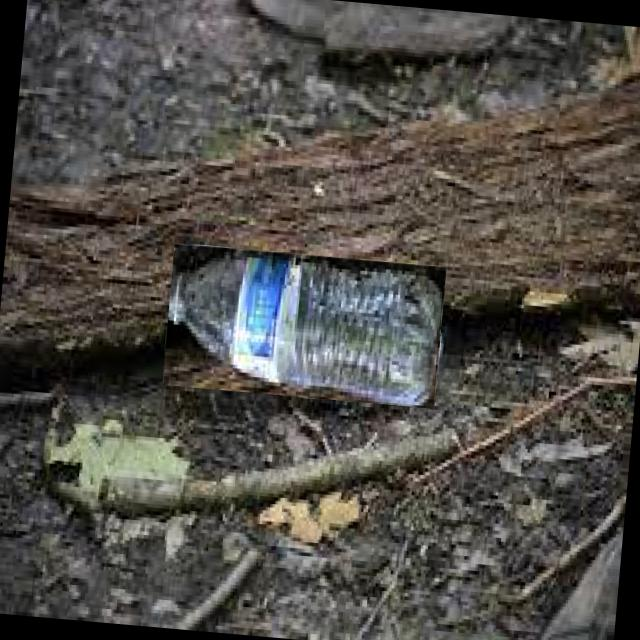Clear plastic bottle: (170, 255, 443, 407)
